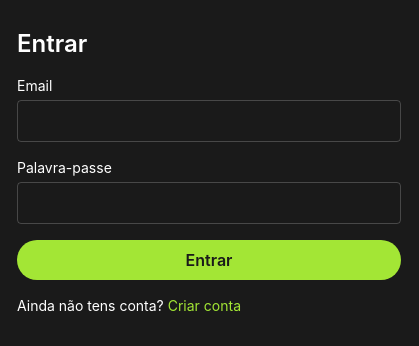
LoginPage › shows a translated message on a network failure
Type "l@e.com" into the field labelled "Email".
click(209, 121); type("l@e.com")  # box [17, 100, 401, 142]
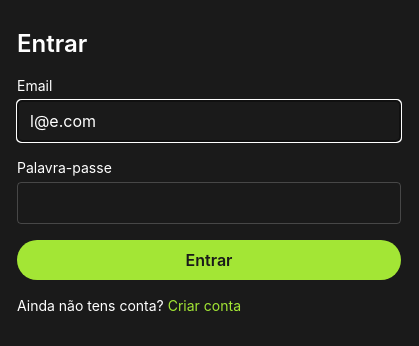
Type "secret123" into the password field labelled "Palavra-passe".
click(209, 203); type("secret123")  # box [17, 182, 401, 224]
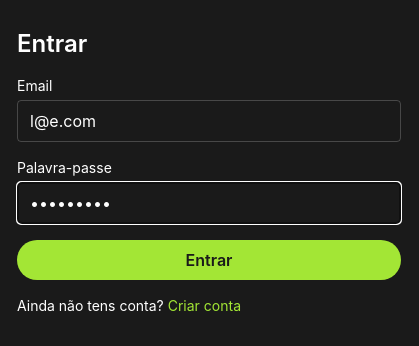
Click the button "Entrar".
click(209, 260)  # box [17, 240, 401, 280]
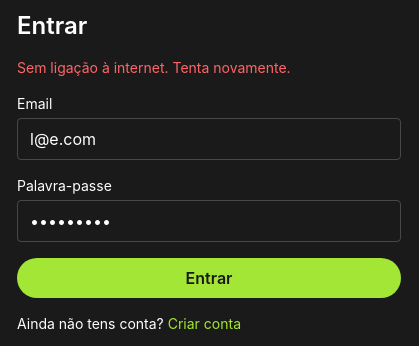
Check: the text "Sem ligação à internet. Tenta novamente." is shown, box [17, 59, 291, 76]
